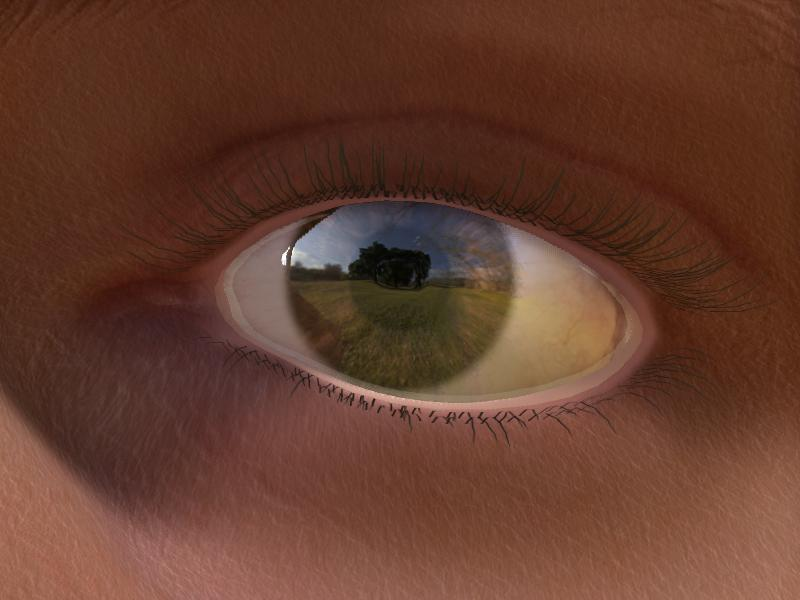eye: (291, 203, 517, 394)
